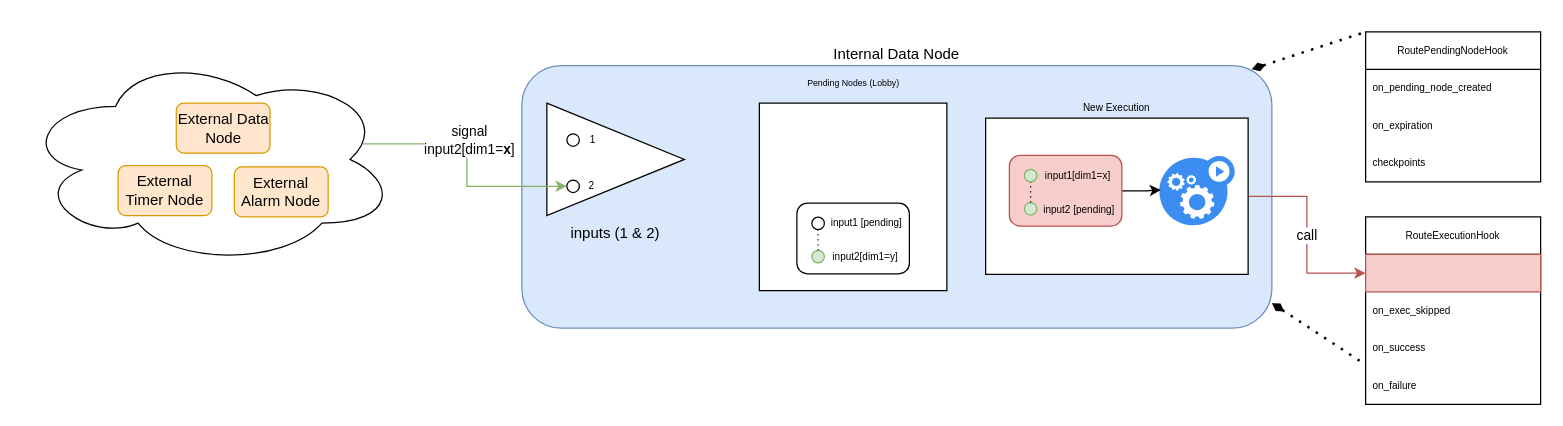
The diagram is 1563 pixels wide and 426 high, and some of its shapes have lost their labels. The centre of each missing label's shape, as x and y in pixels:
compute targets: (x=1196, y=190)
on_exec_begin: (x=1452, y=272)
